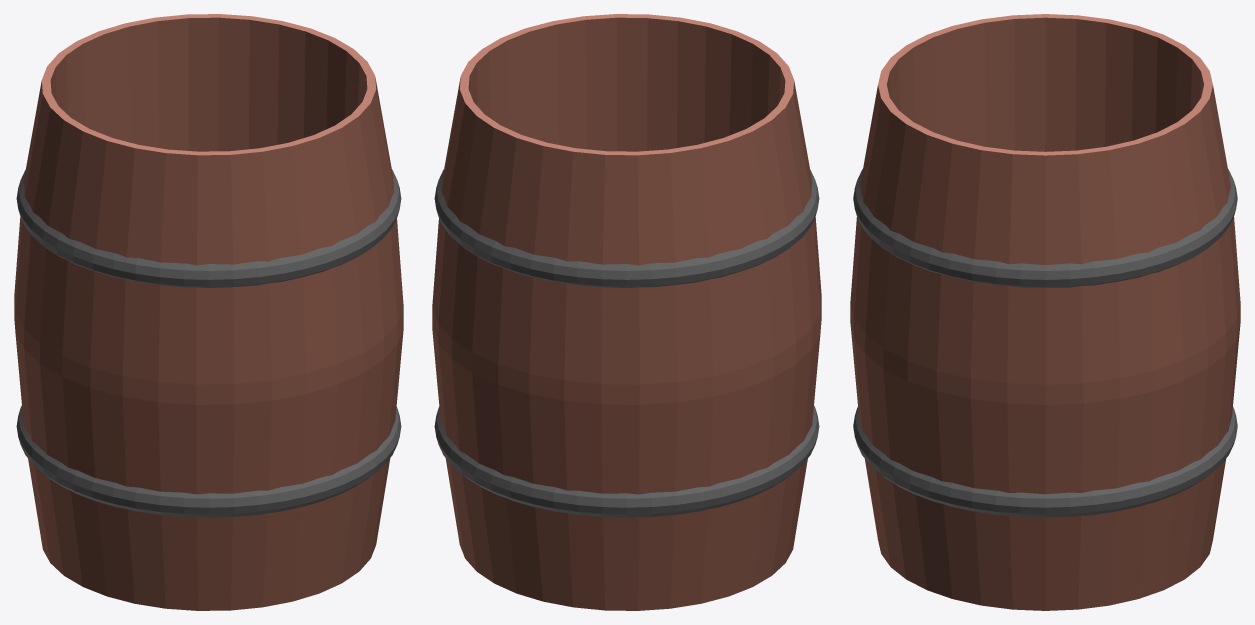
File: Barrel.fbx
3 renders of one model, left to right at view 1: azimuth 30°, elevation 25°; view 2: azimuth 150°, elevation 25°; view 3: azimuth 270°, elevation 25°, orthographic.
Visible parts, largest first — view 1: Cylinder; view 2: Cylinder; view 3: Cylinder.
Part boxes in pixels (bbox=[...]): Cylinder: bbox=[14, 14, 403, 610]; Cylinder: bbox=[432, 14, 821, 610]; Cylinder: bbox=[850, 14, 1240, 610].
Size of the model in its own units: 233 by 300 by 233.
